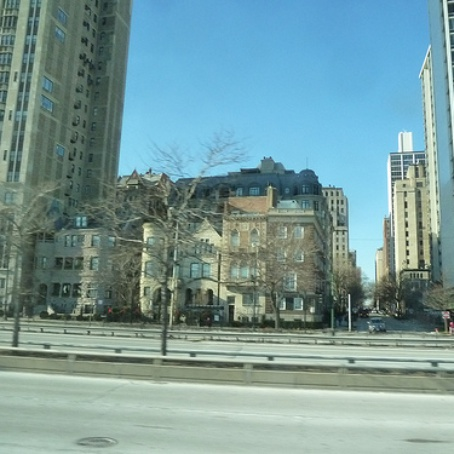building: (58, 171, 338, 326), (1, 1, 120, 309), (380, 135, 454, 313)
sky: (124, 1, 431, 172)
